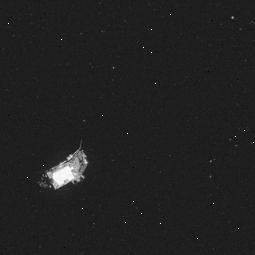lisa_pathfinder: (21, 125, 106, 199)
